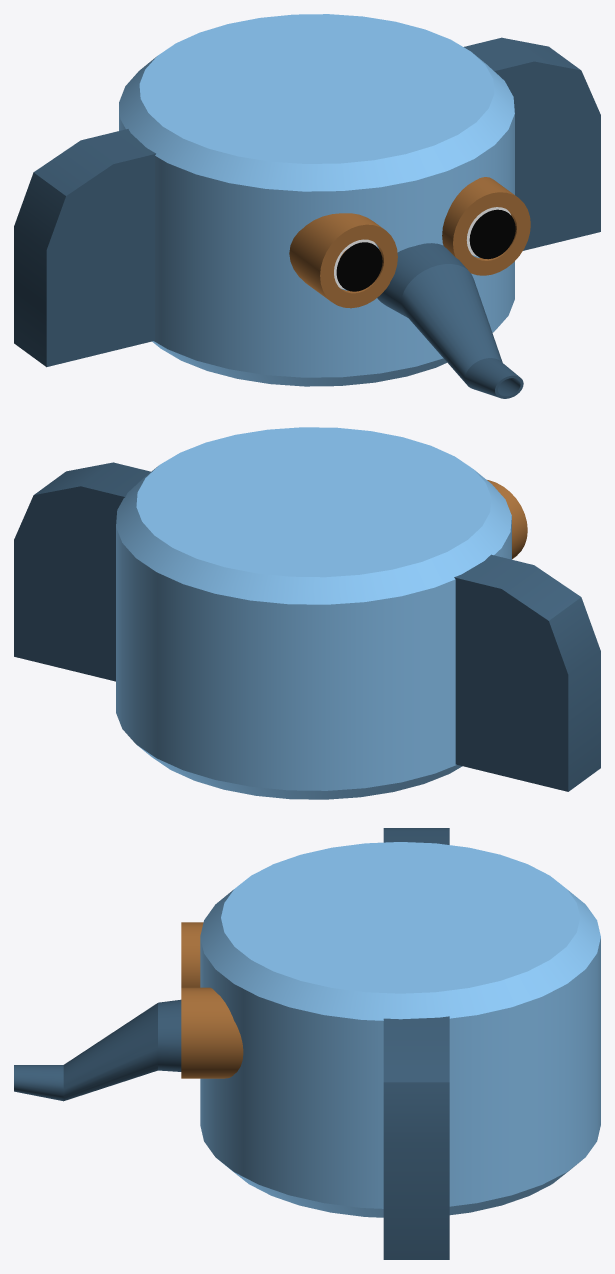
File: Totem4.fbx
3 renders of one model, top to bottom at view 1: azimuth 30°, elevation 25°; view 2: azimuth 150°, elevation 25°; view 3: azimuth 270°, elevation 25°, orthographic.
Parts seen in each view (by area): view 1: Cylinder, Cube, Cylinder.004, Cylinder.001, Cylinder.002; view 2: Cylinder, Cube, Cylinder.001; view 3: Cylinder, Cube, Cylinder.004, Cylinder.001.
Part boxes in pixels (x1,y1,x2,y2): Cylinder: (119,14,514,386); Cube: (14,37,600,367); Cylinder.004: (377,243,523,398); Cylinder.001: (289,177,530,308); Cylinder.002: (336,209,515,291); Cylinder: (116,427,511,799); Cube: (14,462,600,791); Cylinder.001: (487,480,527,559); Cylinder: (200,842,600,1217); Cube: (383,828,449,1259); Cylinder.004: (14,999,181,1101); Cylinder.001: (181,922,243,1078).
Size of the model in its own units: 323 by 123 by 293.
